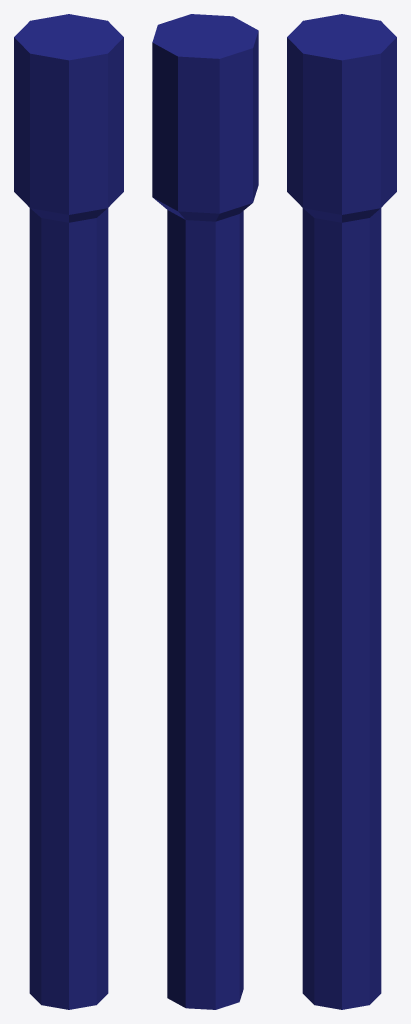
File: gatling-cannon.obj
The picture shows the model from 3 angles, left to right: view 1: azimuth 90°, elevation 25°; view 2: azimuth 150°, elevation 25°; view 3: azimuth 270°, elevation 25°; orthographic projection.
Parts seen in each view (by area): view 1: Cube.001_Cube.002; view 2: Cube.001_Cube.002; view 3: Cube.001_Cube.002.
Boxes of the visible parts, <box> form: Cube.001_Cube.002: <box>14,14,123,1009</box>; Cube.001_Cube.002: <box>152,14,258,1009</box>; Cube.001_Cube.002: <box>287,14,396,1009</box>.
Bounding box in the file's own units: 0.3838 × 3.69 × 0.3838.
